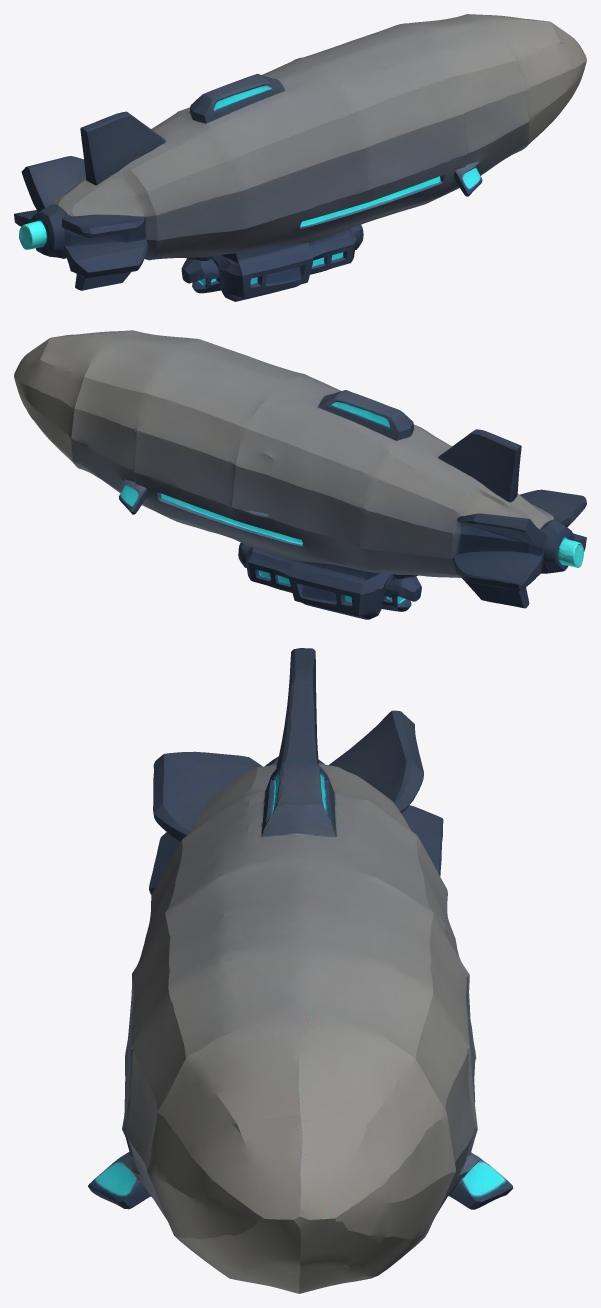
3 renders of one model, top to bottom at view 1: azimuth 30°, elevation 25°; view 2: azimuth 150°, elevation 25°; view 3: azimuth 270°, elevation 25°, orthographic. The views are drawn at different scales.
Visible parts, largest first — view 1: Mesh; view 2: Mesh; view 3: Mesh.
Part boxes in pixels (x1,y1,x2,y2): Mesh: [14, 14, 586, 301]; Mesh: [14, 330, 586, 619]; Mesh: [88, 648, 513, 1293].
Size of the model in its own units: 1.9 by 0.6905 by 0.6289.
Materials: 1 (1 with a texture image).
